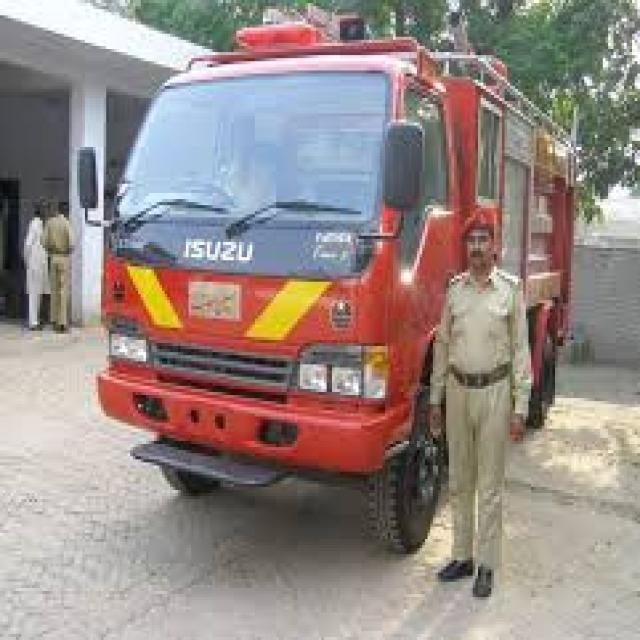Fire_brigade: (66, 0, 587, 551)
